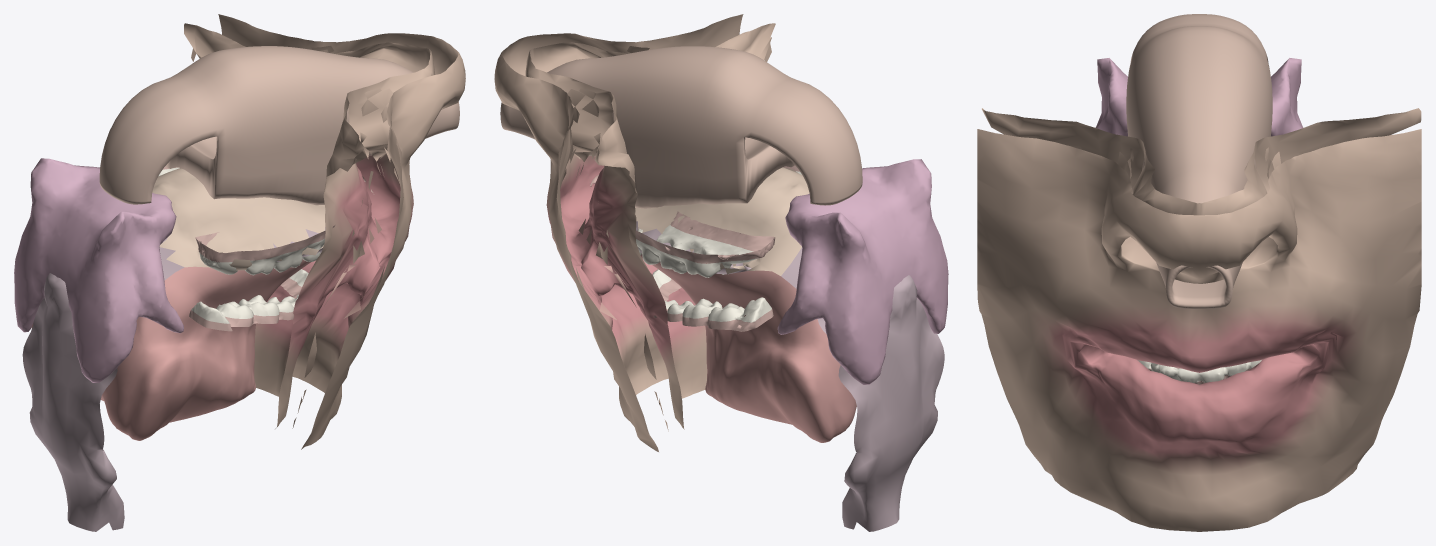
The model's file is makharij-rest.glb.
The picture shows the model from 3 angles, left to right: view 1: azimuth 30°, elevation 25°; view 2: azimuth 150°, elevation 25°; view 3: azimuth 270°, elevation 25°; orthographic projection. The views are drawn at different scales.
Visible parts, largest first — view 1: LIP_CONTEXT, NASAL_LINING, SOFT_PALATE, TONGUE, PHARYNX, HARD_PALATE, LOWER_TEETH, UPPER_TEETH, GINGIVA_UPPER, GINGIVA_LOWER; view 2: LIP_CONTEXT, NASAL_LINING, SOFT_PALATE, TONGUE, PHARYNX, HARD_PALATE, GINGIVA_UPPER, UPPER_TEETH, LOWER_TEETH, GINGIVA_LOWER; view 3: LIP_CONTEXT, NASAL_LINING, SOFT_PALATE, LOWER_TEETH.
Part boxes in pixels (x1,y1,x2,y2): LIP_CONTEXT: (184,14,465,449); NASAL_LINING: (99,46,459,205); SOFT_PALATE: (14,158,183,382); TONGUE: (31,253,320,440); PHARYNX: (22,227,325,531); HARD_PALATE: (152,168,325,270); LOWER_TEETH: (191,269,308,323); UPPER_TEETH: (158,167,324,275); GINGIVA_UPPER: (163,166,374,262); GINGIVA_LOWER: (189,278,301,331); LIP_CONTEXT: (494,14,775,451); NASAL_LINING: (500,46,862,208); SOFT_PALATE: (777,159,948,384); TONGUE: (641,254,856,442); PHARYNX: (636,221,944,531); HARD_PALATE: (635,167,809,275); GINGIVA_UPPER: (590,165,799,263); UPPER_TEETH: (636,171,801,277); LOWER_TEETH: (652,269,771,322); GINGIVA_LOWER: (653,279,773,331); LIP_CONTEXT: (977,108,1421,531); NASAL_LINING: (1126,14,1272,308); SOFT_PALATE: (1095,58,1303,136); LOWER_TEETH: (1137,360,1261,382).
Size of the model in its own units: 0.1247 by 0.1275 by 0.0943.
